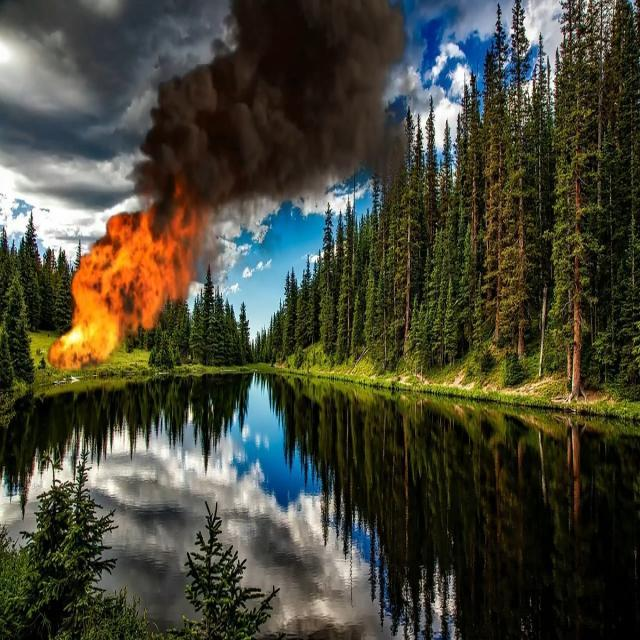Fire: (58, 206, 196, 358)
Smoke: (162, 13, 400, 205)
